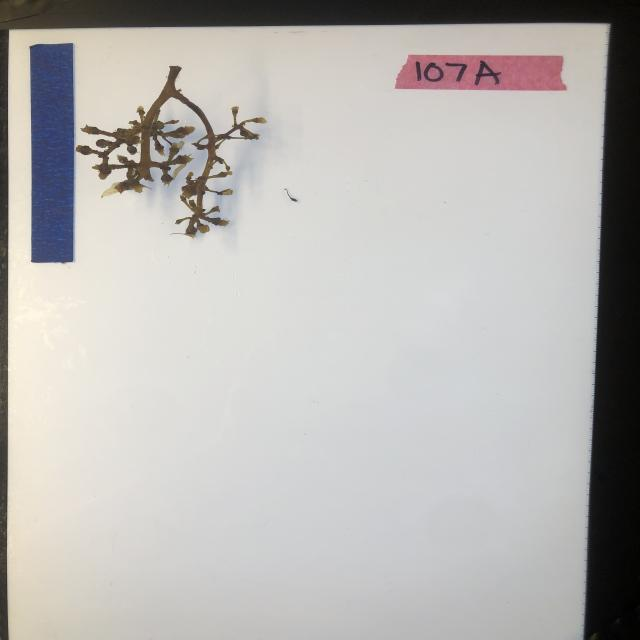index: (394, 52, 567, 93)
measure_label: (29, 42, 75, 265)
rachis_cluster: (80, 64, 274, 238)
